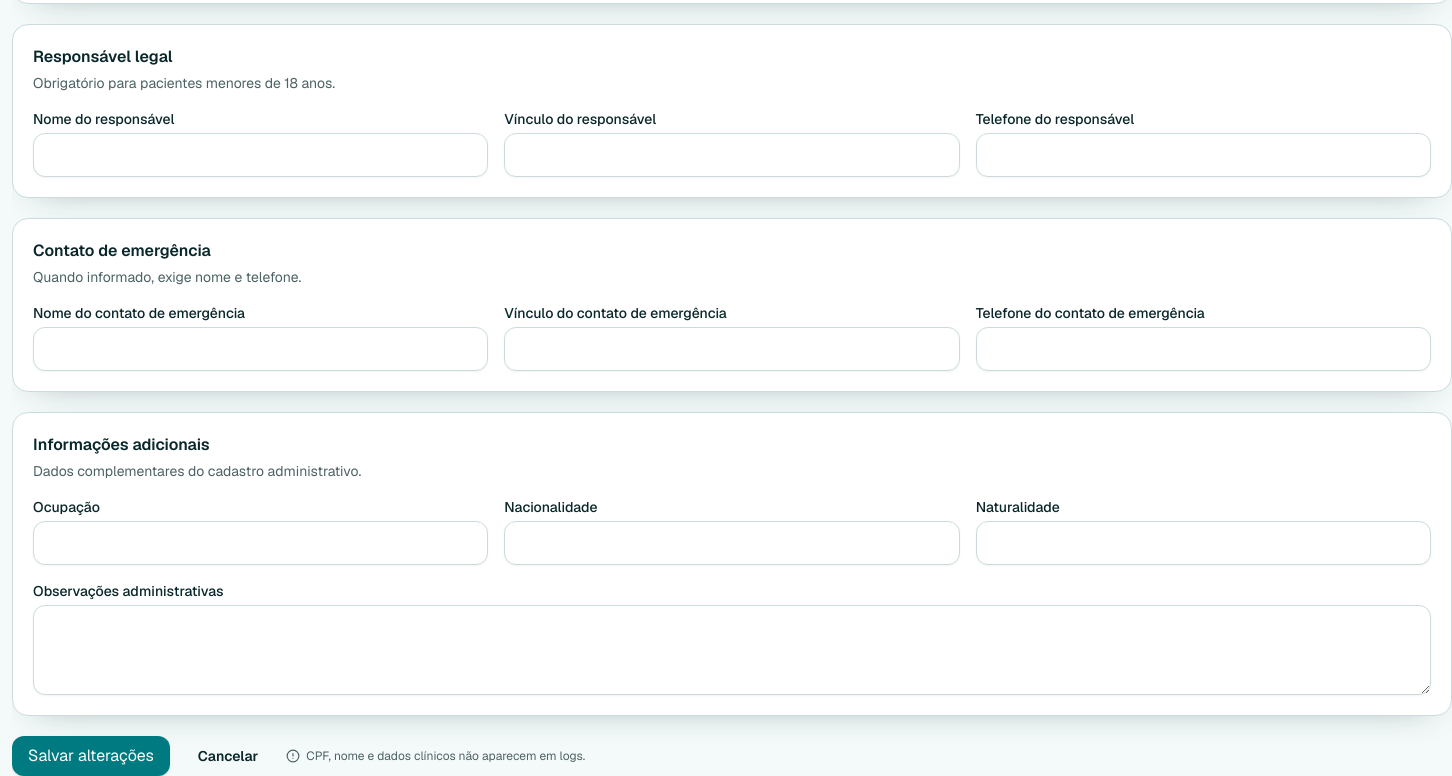
Scenario: PatientForm › maps a forbidden response to a permission message
The image size is (1452, 776).
(page scrolled)
Step 1. Click the button "Salvar alterações" → (91, 756), box [12,736,170,775]
(page scrolled)
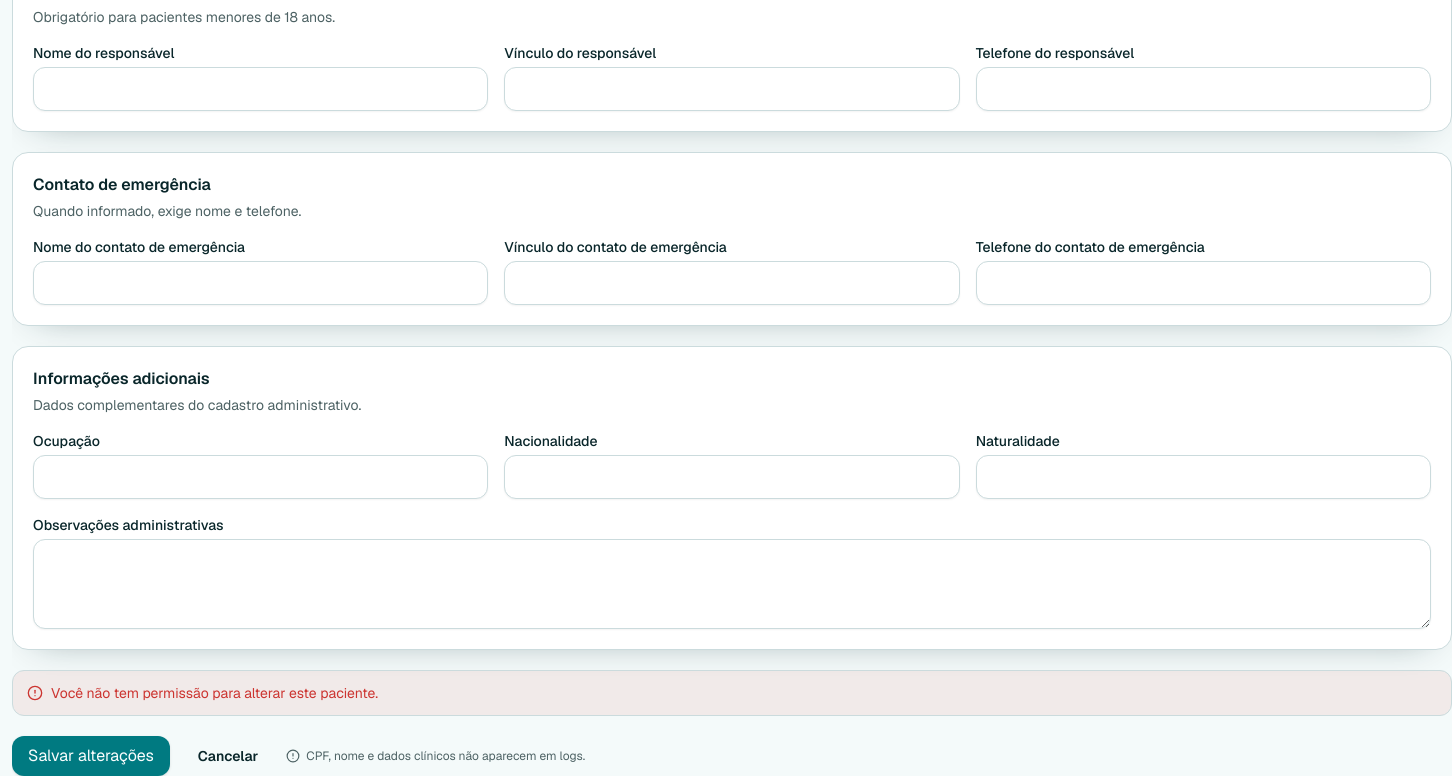
Expected: the message reads "Você não tem permissão para alterar este paciente.", [51,684,378,702]
